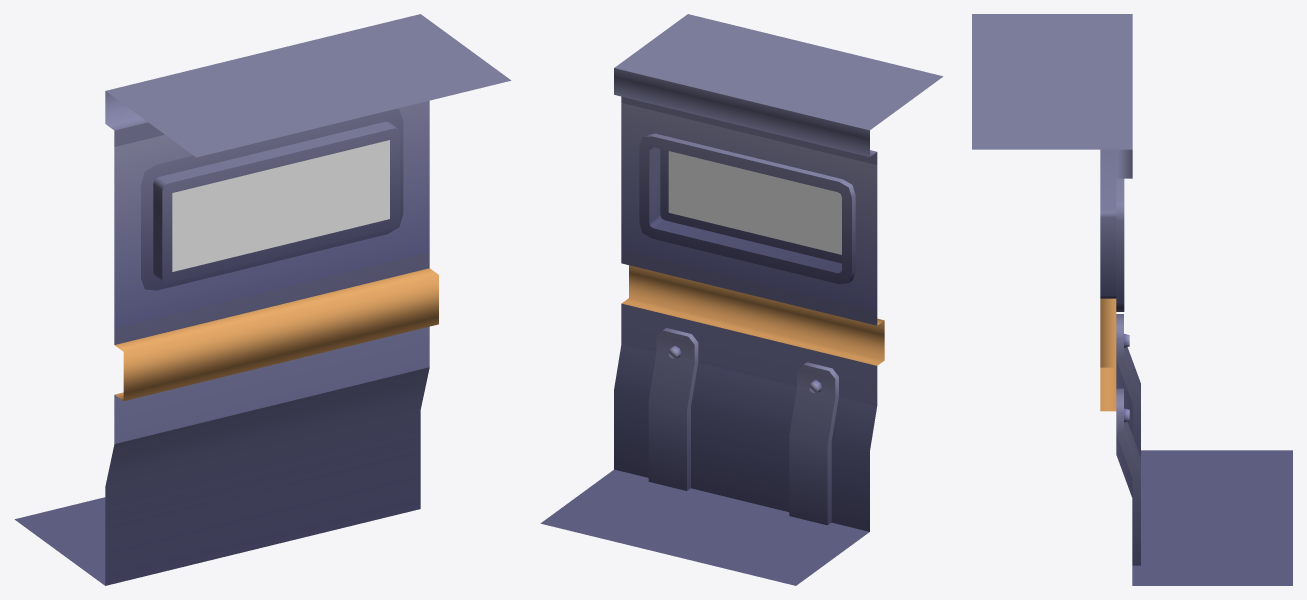
File: kenney-factory-structure-window-wide.glb
3 renders of one model, left to right at view 1: azimuth 30°, elevation 25°; view 2: azimuth 150°, elevation 25°; view 3: azimuth 270°, elevation 25°, orthographic. The views are drawn at different scales.
Parts seen in each view (by area): view 1: structure-window-wide; view 2: structure-window-wide; view 3: structure-window-wide.
Part boxes in pixels (bbox=[...]): structure-window-wide: bbox=[14, 14, 511, 585]; structure-window-wide: bbox=[540, 14, 943, 585]; structure-window-wide: bbox=[972, 14, 1292, 585].
Bounding box in the file's own units: 3 × 4.5 × 3.
1 material, 1 textured.
